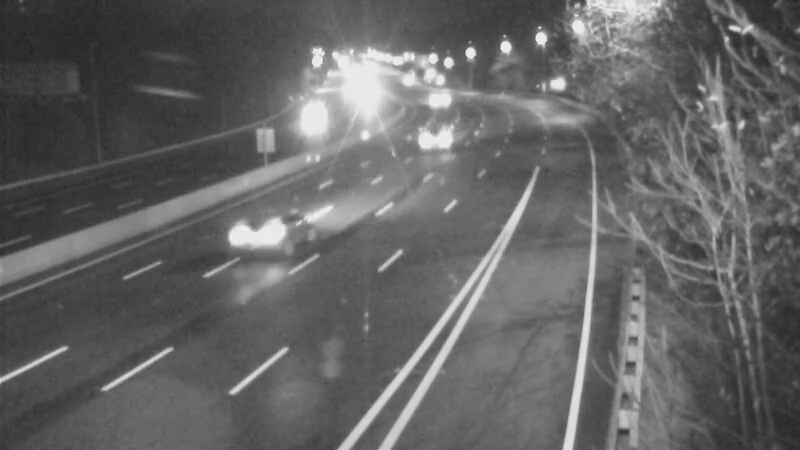vehicle: (215, 201, 295, 281), (411, 74, 461, 124), (409, 114, 459, 164), (287, 94, 337, 144)
